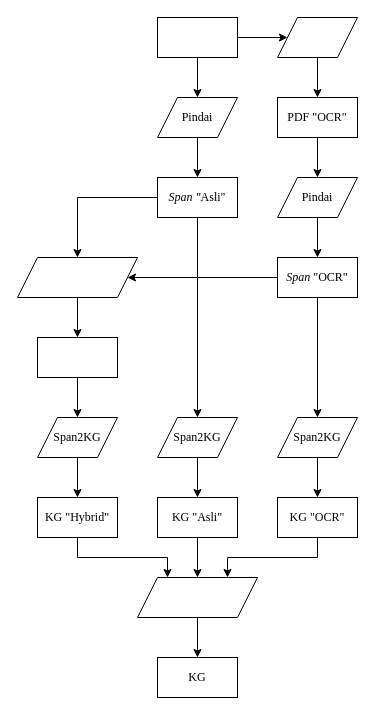
The diagram is 375 pixels wide and 715 high, and some of its shapes have lost their labels. The shapes that lost their labels are listed below. From the top down, each one's box as (x1, y1, x2, y2) in pixels, then its label:
(156, 16, 238, 58): PDF "Asli"
(276, 16, 358, 58): OCR
(16, 256, 138, 298): Gabungkan Span
(36, 336, 118, 378): Span "Hybrid"
(136, 576, 258, 618): Pilih terbaik
